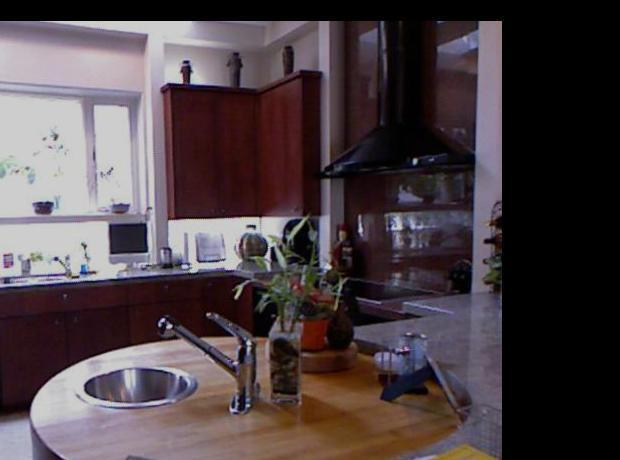Lavaplatos: (73, 305, 267, 441), (0, 243, 81, 297)
